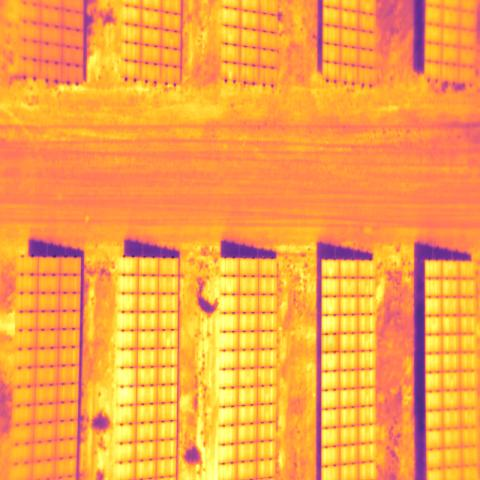fault: (118, 368, 136, 406), (322, 334, 339, 352)
